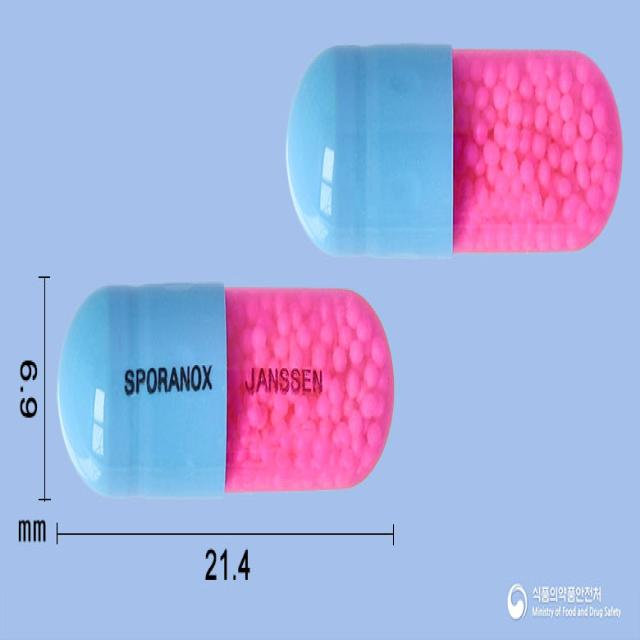Kukje Cefixime Cap: (57, 284, 397, 489)
